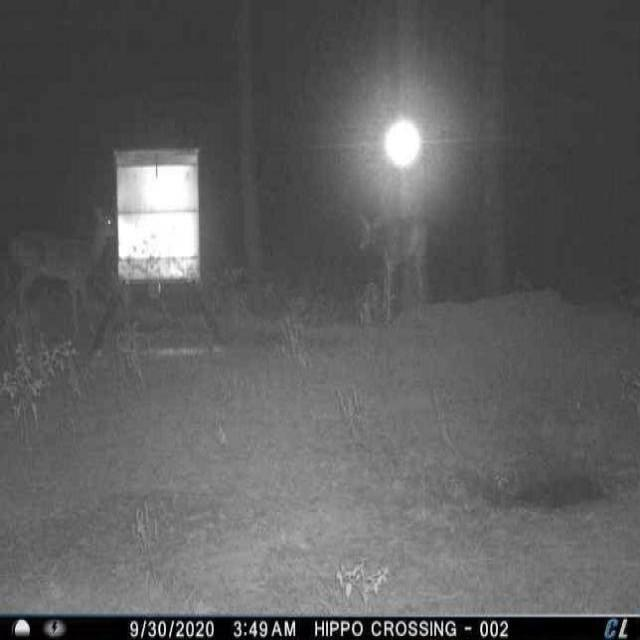deer: (12, 203, 115, 341), (356, 201, 432, 326)
